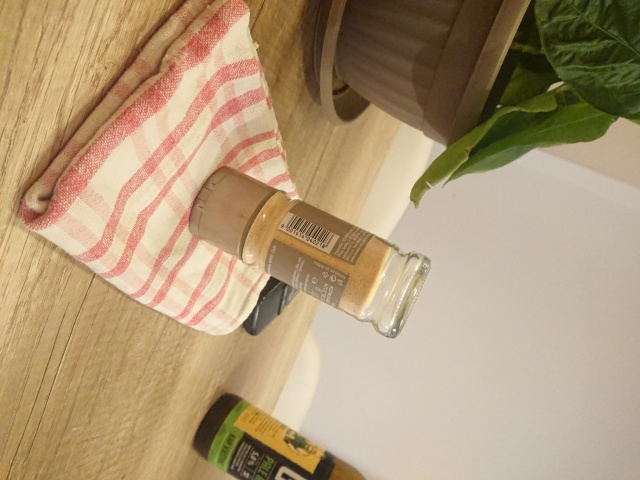Kotanyi Garlic Granules 70g: (186, 164, 434, 342)
